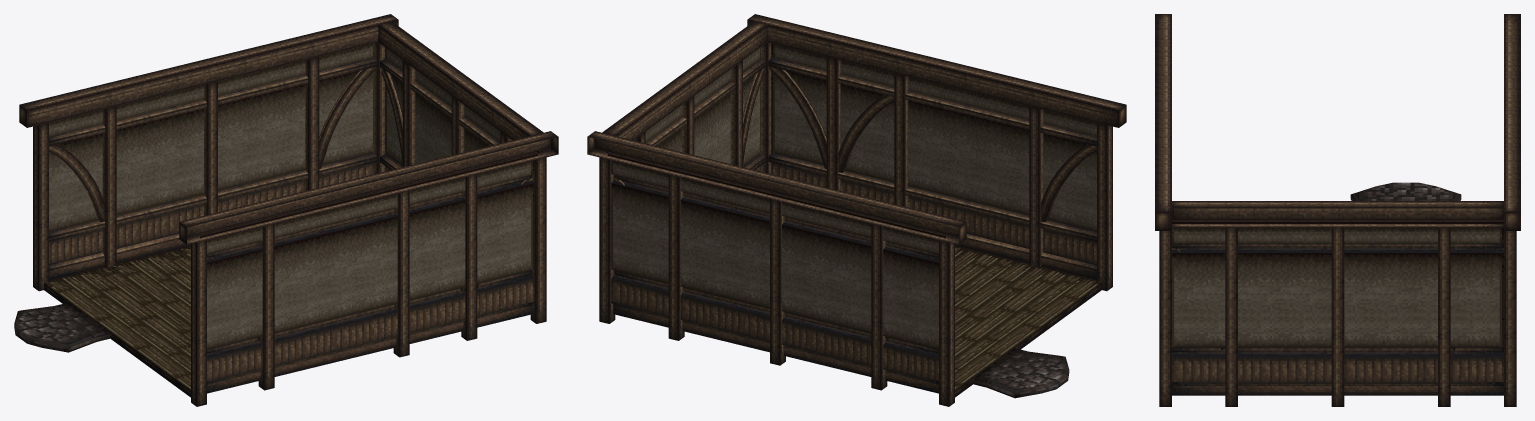
The model's file is EnvBdgMD_Mount_A_Indoor_House_C.fbx.
3 views of the same model, side by side, from view 1: azimuth 30°, elevation 25°; view 2: azimuth 150°, elevation 25°; view 3: azimuth 270°, elevation 25° (orthographic). The views are drawn at different scales.
Parts seen in each view (by area): view 1: EnvBdgMD_Mount_A_Indoor_House_C; view 2: EnvBdgMD_Mount_A_Indoor_House_C; view 3: EnvBdgMD_Mount_A_Indoor_House_C.
Part boxes in pixels (box(x1,y1,x2,y2)): EnvBdgMD_Mount_A_Indoor_House_C: box(14, 14, 558, 406); EnvBdgMD_Mount_A_Indoor_House_C: box(587, 14, 1126, 406); EnvBdgMD_Mount_A_Indoor_House_C: box(1155, 14, 1520, 406).
Bounding box in the file's own units: 1250 × 520 × 860.
